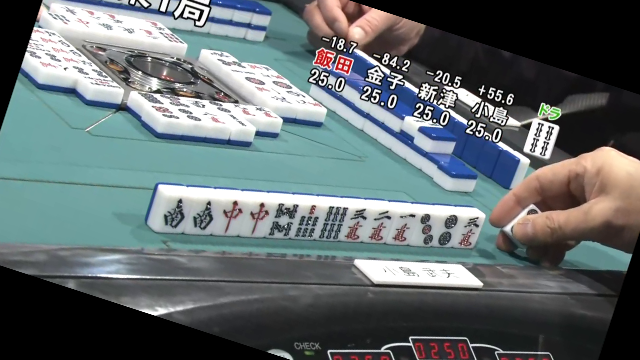Tehai: (145, 184, 489, 253)
